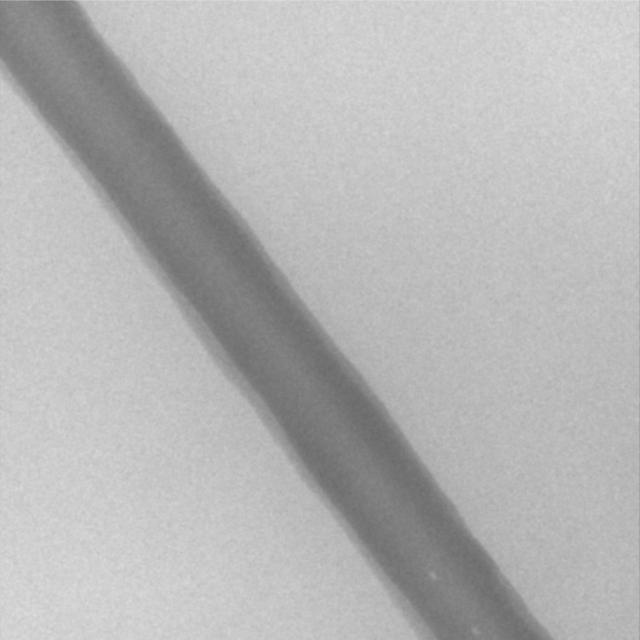air hole: (427, 569, 436, 581), (471, 625, 480, 635)
